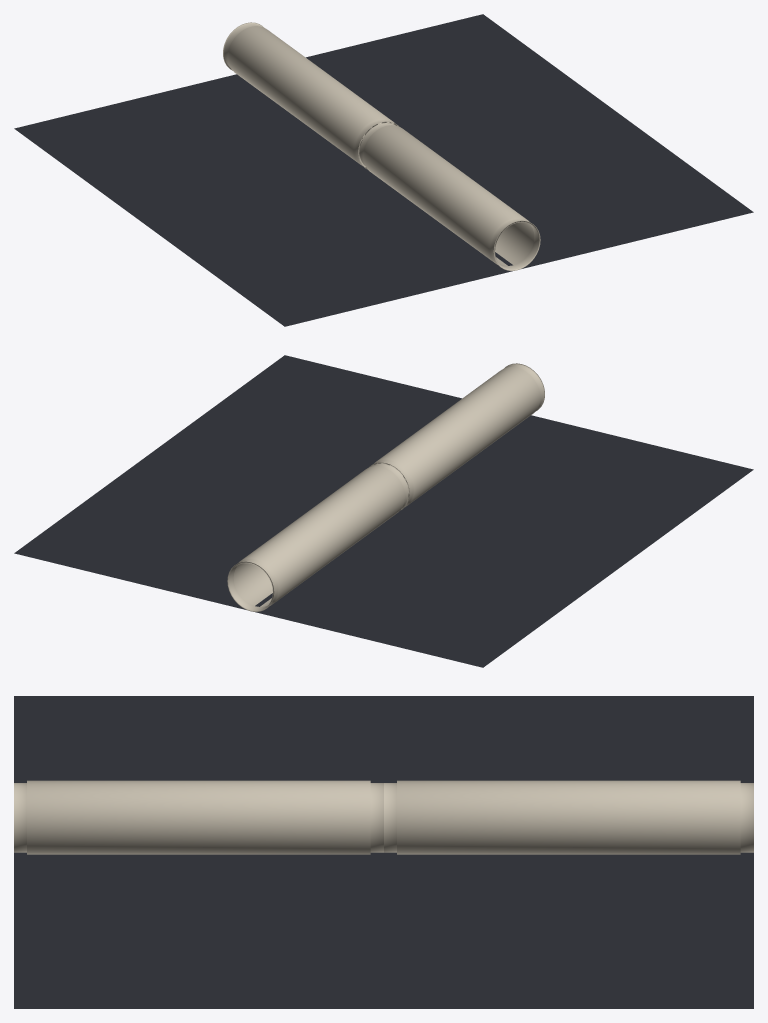
Rendered from s_tile.glb.
3 views of the same model, one above another, from view 1: azimuth 30°, elevation 25°; view 2: azimuth 150°, elevation 25°; view 3: azimuth 270°, elevation 25° (orthographic). The views are drawn at different scales.
Visible parts, largest first — view 1: Plane, Cylinder.001; view 2: Plane, Cylinder.001; view 3: Plane, Cylinder.001.
Boxes of the visible parts, box(x1,y1,x2,y2) form: Plane: box(14, 14, 753, 326); Cylinder.001: box(223, 22, 540, 270); Plane: box(14, 355, 753, 667); Cylinder.001: box(227, 363, 544, 611); Plane: box(14, 696, 753, 1008); Cylinder.001: box(14, 780, 753, 854).
Size of the model in its own units: 0.5 by 0.05 by 0.5.
